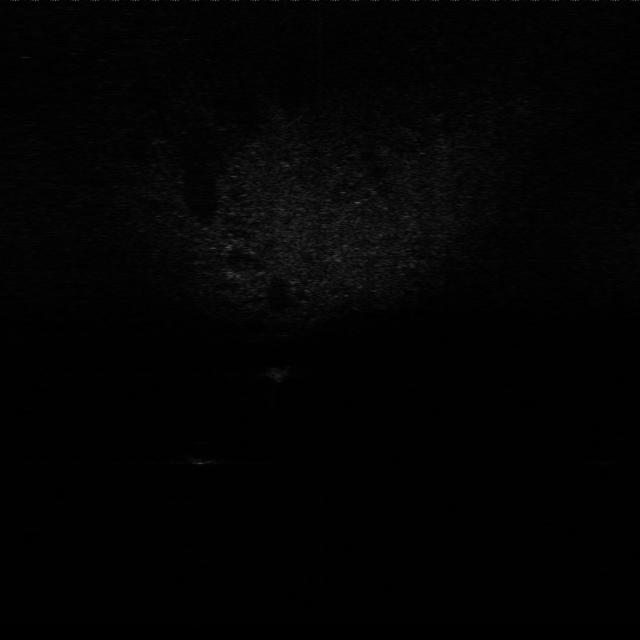ball: (182, 445, 223, 469)
cube: (262, 360, 294, 386)
